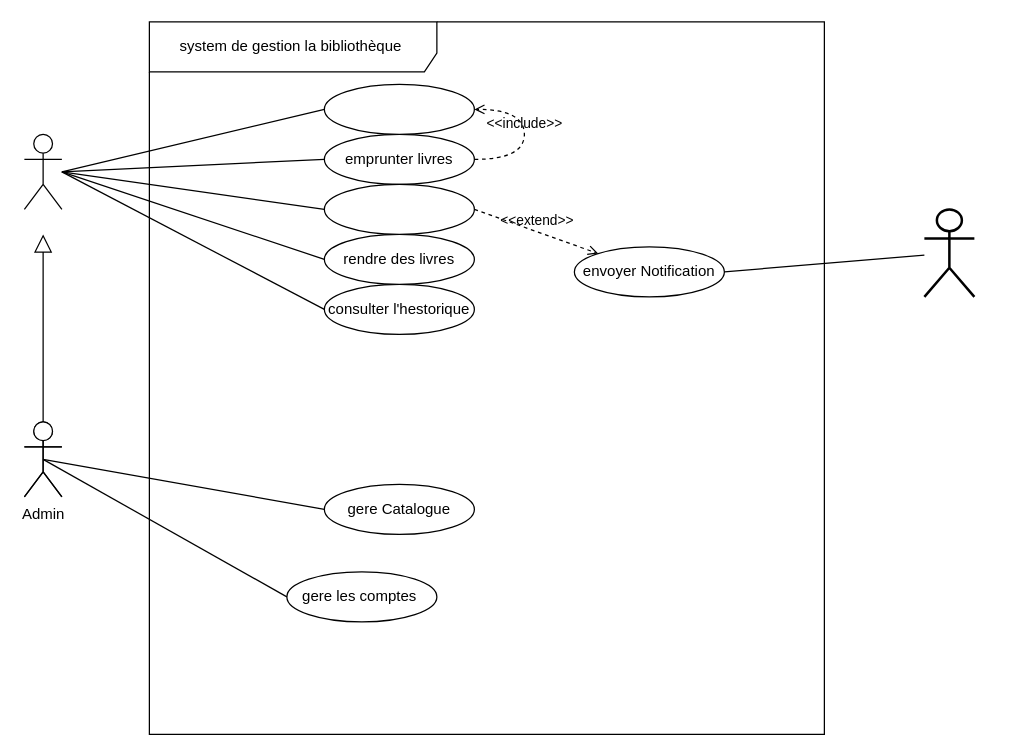
This 1021x756 diagram has some shape labels left out. Each missing label, with the box of its shape:
Actor: (23, 133, 62, 209)
rechercher des livres: (323, 183, 474, 234)
S'inscrire: (323, 83, 474, 134)
système e-mail: (922, 208, 975, 298)
